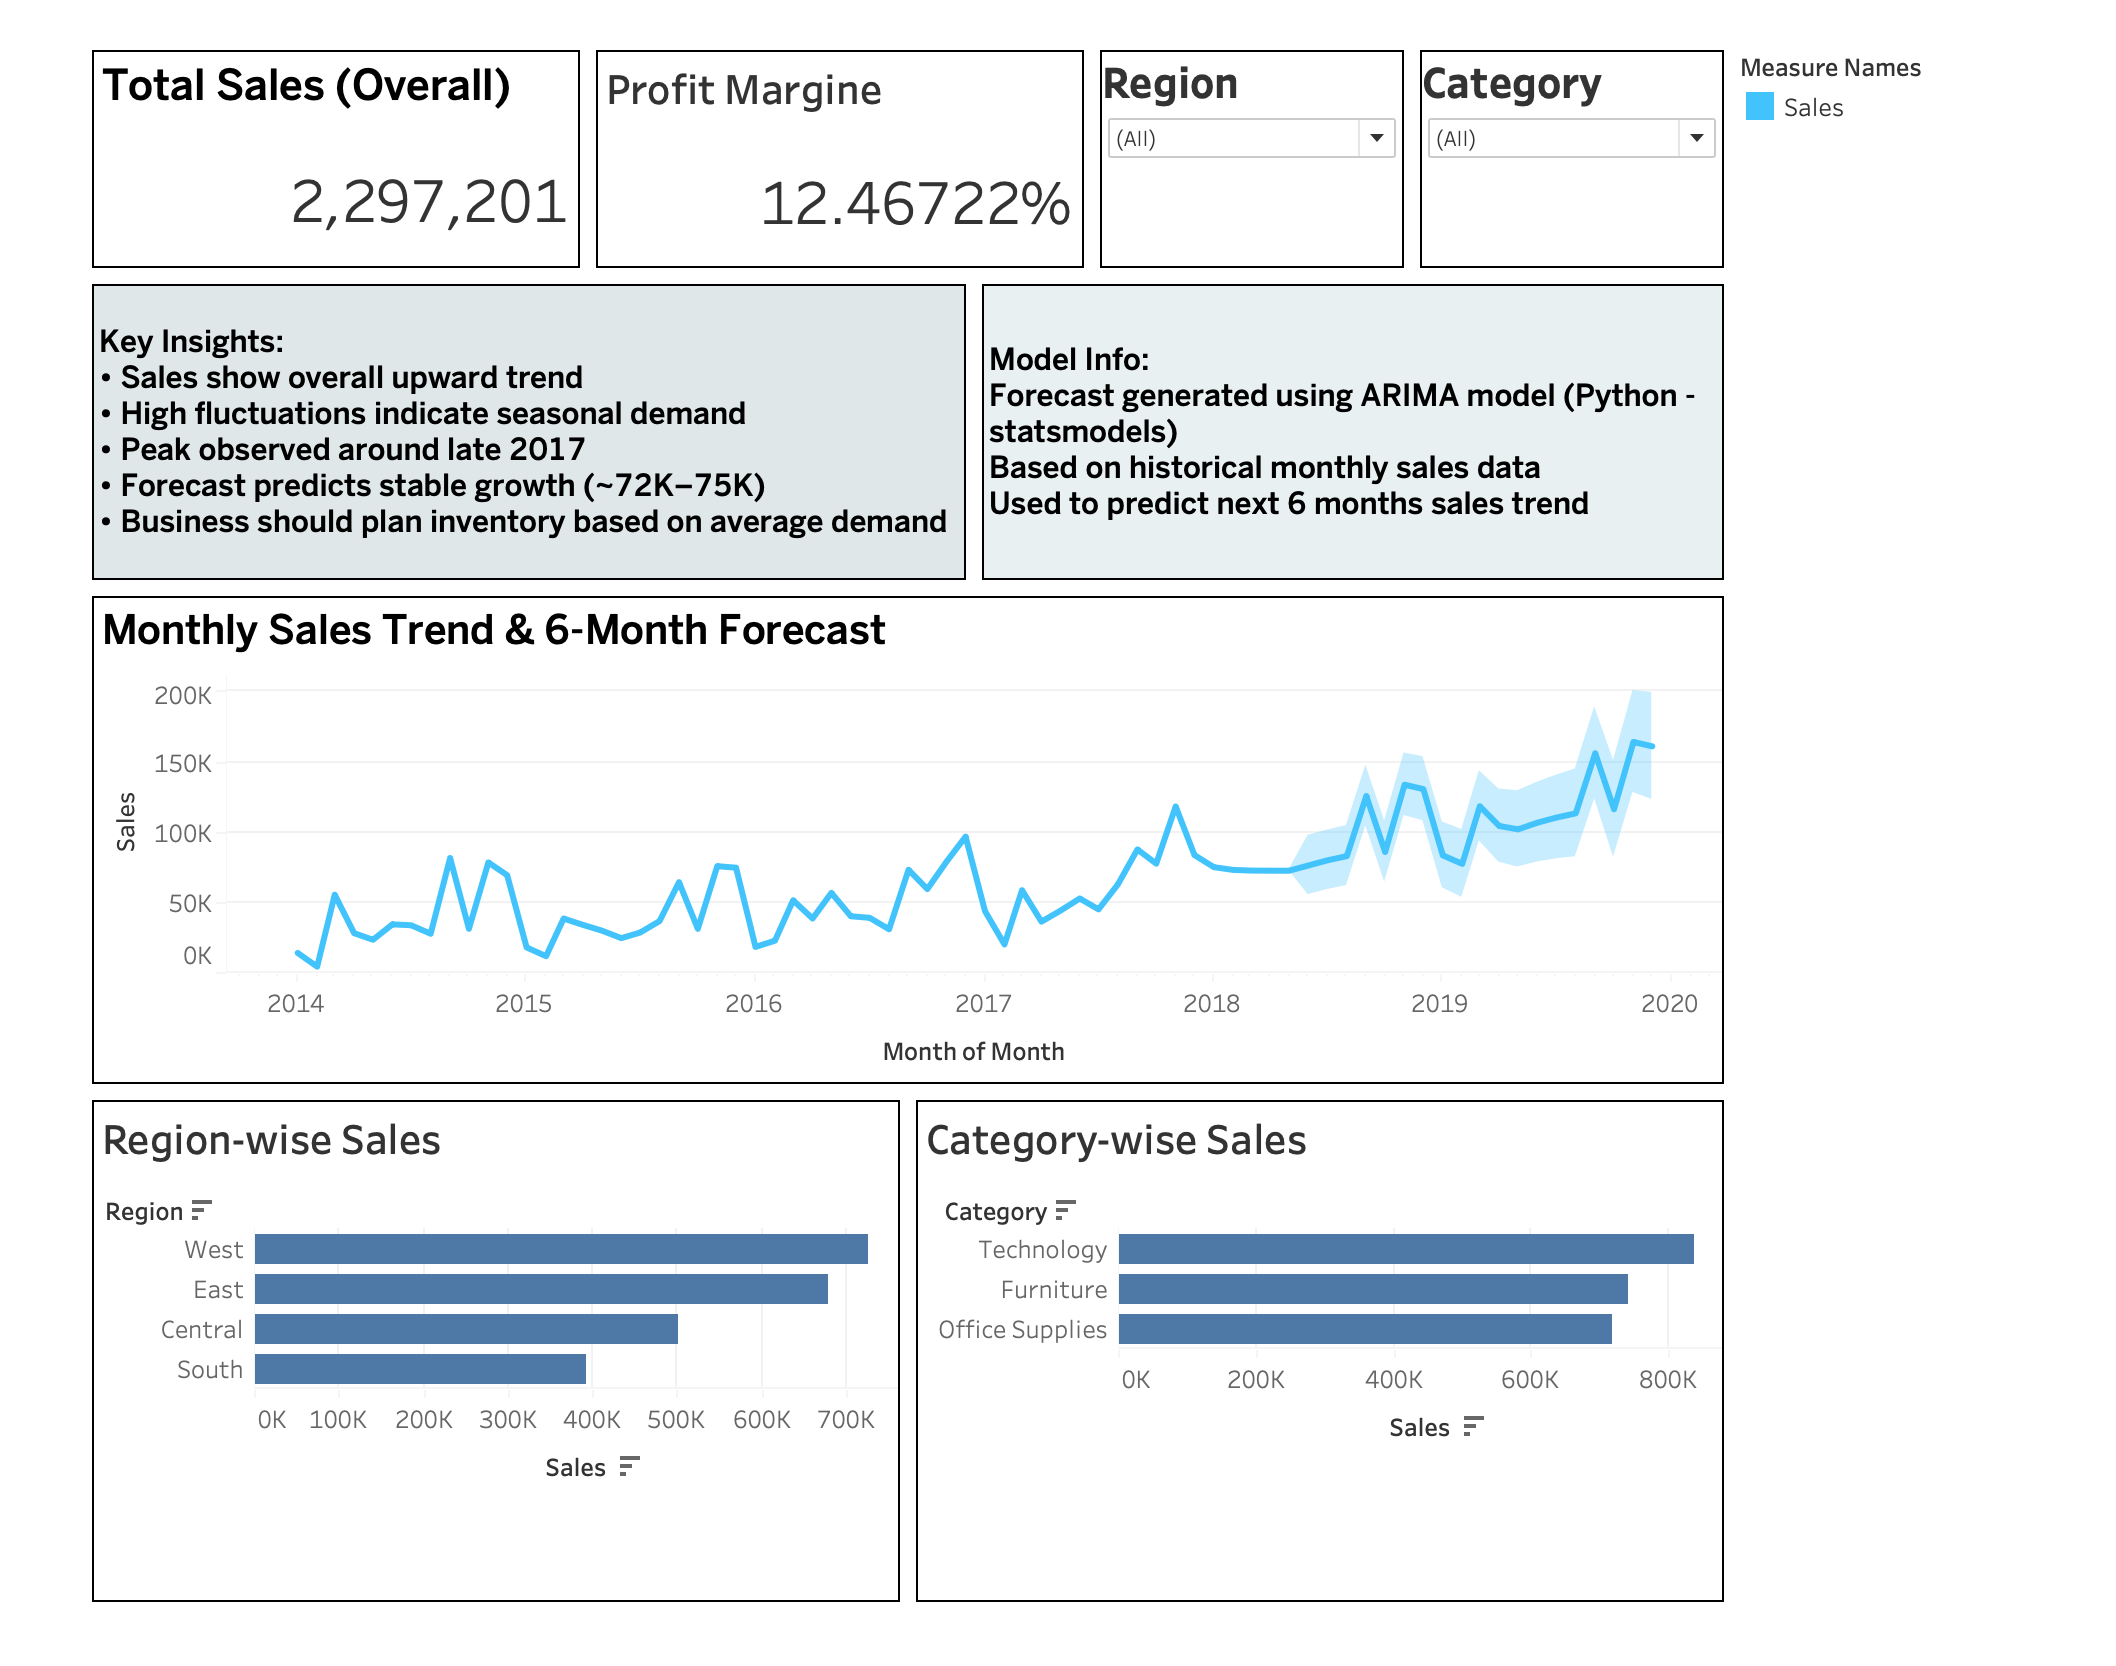

Layout of this report page (visuals, bound fields, positions):
{"tool":"tableau","page":{"name":"Dashboard 1","canvas":[1000,800],"ordinal":0},"visuals":[{"type":"worksheet","title":"Total Sales","mark":"Automatic","box":[8,8,252,117]},{"type":"worksheet","title":"Profit Margine","mark":"Automatic","box":[260,8,252,117]},{"type":"filter","title":"Category-wise Sales","param":"[federated.1a502ai1mykpgk1ame1si0mtezkg].[none:Region:nk]","box":[512,8,160,117]},{"type":"filter","title":"Category-wise Sales","param":"[federated.1a502ai1mykpgk1ame1si0mtezkg].[none:Category:nk]","box":[672,8,160,117]},{"type":"legend","title":"Monthly Sales & Forecast","param":"[federated.1mq6czb1j02w8m0zl9nbn1at79vc].[:Measure Names]","box":[832,8,160,46]},{"type":"text","box":[8,125,445,156]},{"type":"text","box":[453,125,379,156]},{"type":"worksheet","title":"Monthly Sales & Forecast","mark":"Automatic","rows":["Sales"],"cols":["Month"],"box":[8,281,824,252]},{"type":"worksheet","title":"Region-wise Sales","mark":"Automatic","rows":["Region"],"cols":["Sales"],"box":[8,533,412,259]},{"type":"worksheet","title":"Category-wise Sales","mark":"Automatic","rows":["Category"],"cols":["Sales"],"box":[420,533,412,259]}]}

Visuals, with their boxes in screenshot pixels (x1, y1, x2, y2), scaled from the page's 1000x800 canvas onto the 2116x1666 screenshot:
"Total Sales" worksheet: 17:17:550:260
"Profit Margine" worksheet: 550:17:1083:260
"Category-wise Sales" filter: 1083:17:1422:260
"Category-wise Sales" filter: 1422:17:1761:260
"Monthly Sales & Forecast" legend: 1761:17:2099:112
text: 17:260:959:585
text: 959:260:1761:585
"Monthly Sales & Forecast" worksheet: 17:585:1761:1110
"Region-wise Sales" worksheet: 17:1110:889:1649
"Category-wise Sales" worksheet: 889:1110:1761:1649
